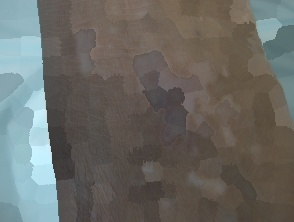vitiligo: (111, 16, 278, 220)
